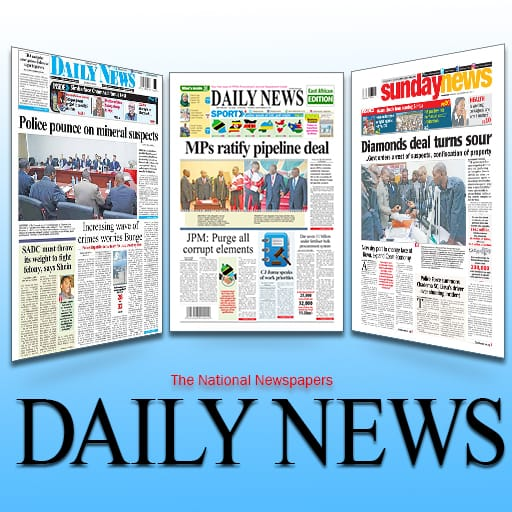news_paper: (165, 48, 351, 348), (5, 35, 172, 368), (345, 41, 512, 369)
